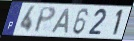1: (111, 9, 124, 38)
2: (88, 7, 108, 37)
4: (17, 4, 36, 35)
6: (72, 6, 89, 36)
A: (50, 7, 70, 34)
P: (33, 6, 57, 34)
